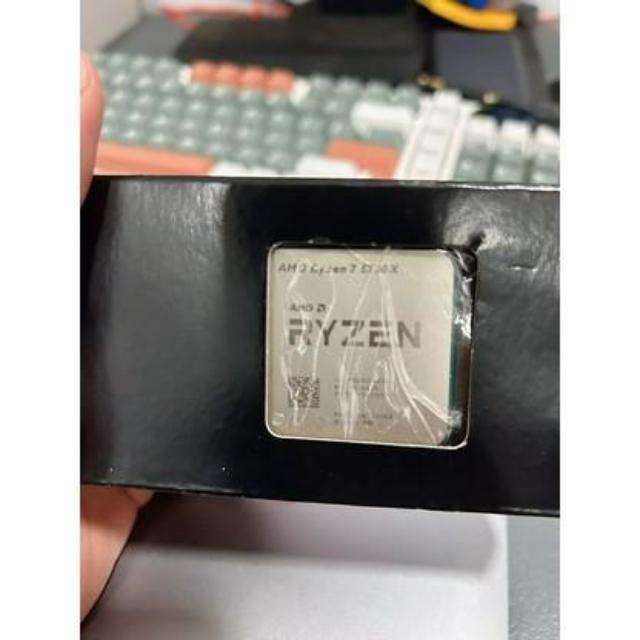CPU: (268, 246, 454, 452)
